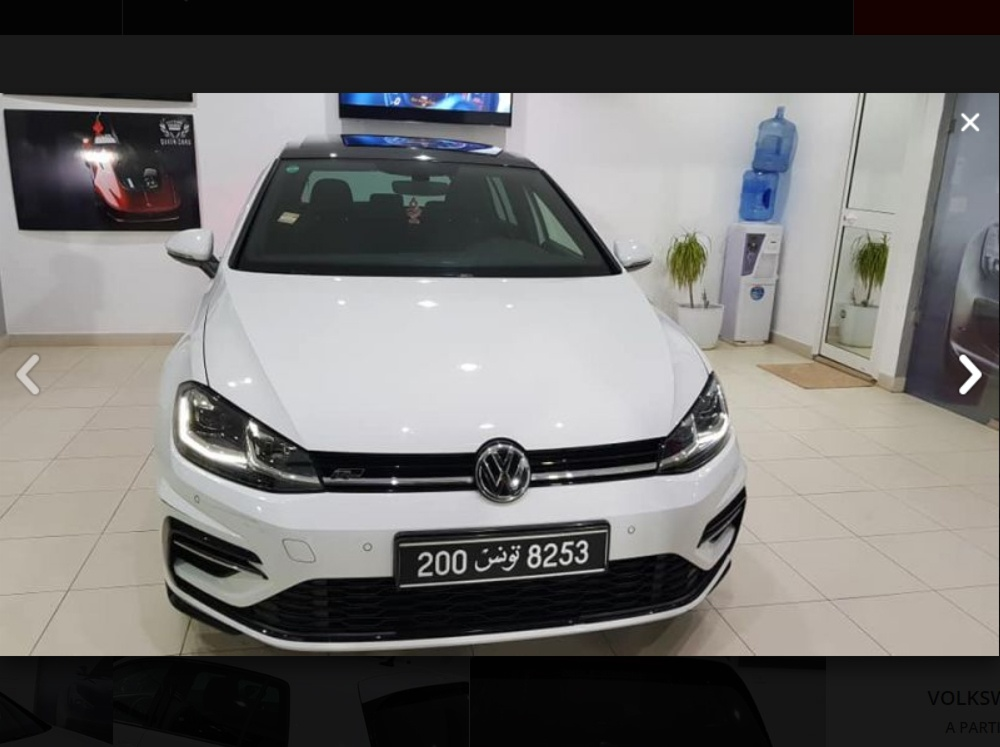LP: (395, 525, 617, 591)
